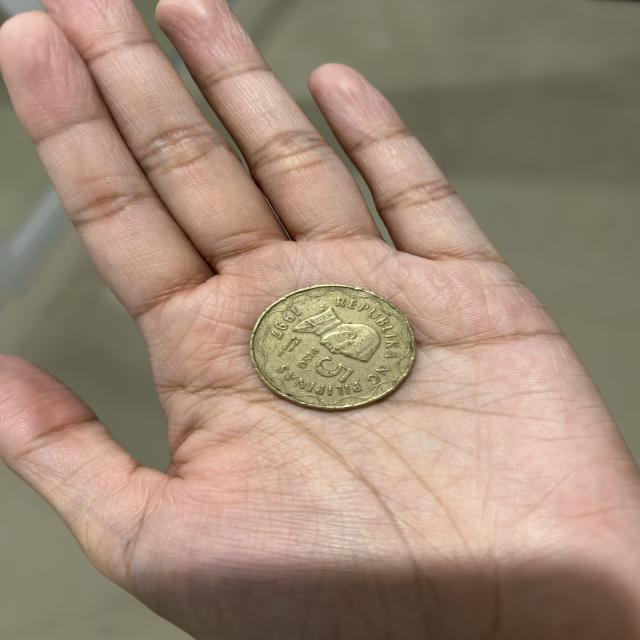5_Old_Front: (297, 342, 355, 399)
